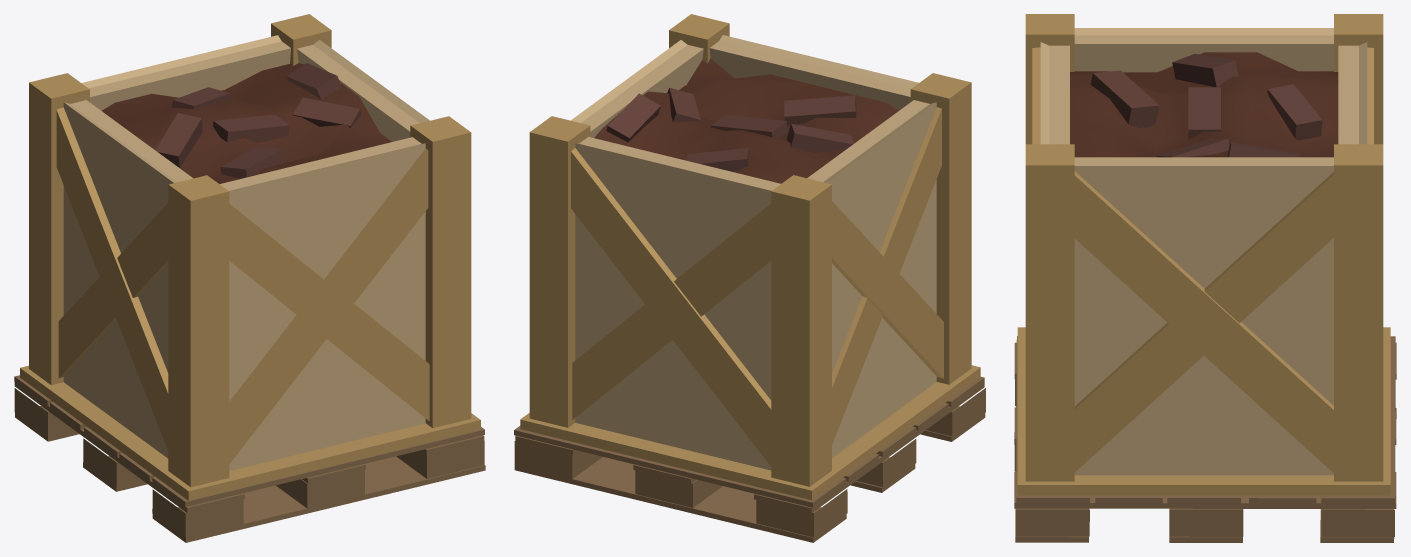
The model's file is BrickCrate.glb.
3 renders of one model, left to right at view 1: azimuth 30°, elevation 25°; view 2: azimuth 150°, elevation 25°; view 3: azimuth 270°, elevation 25°, orthographic. The views are drawn at different scales.
Visible parts, largest first — view 1: singleOpenCrate; view 2: singleOpenCrate; view 3: singleOpenCrate.
Boxes of the visible parts, <box> form: singleOpenCrate: <box>14,14,485,542</box>; singleOpenCrate: <box>514,14,985,542</box>; singleOpenCrate: <box>1014,14,1396,542</box>.
Bounding box in the file's own units: 0.9282 × 0.9953 × 0.9267.
Materials: 1 (1 with a texture image).
